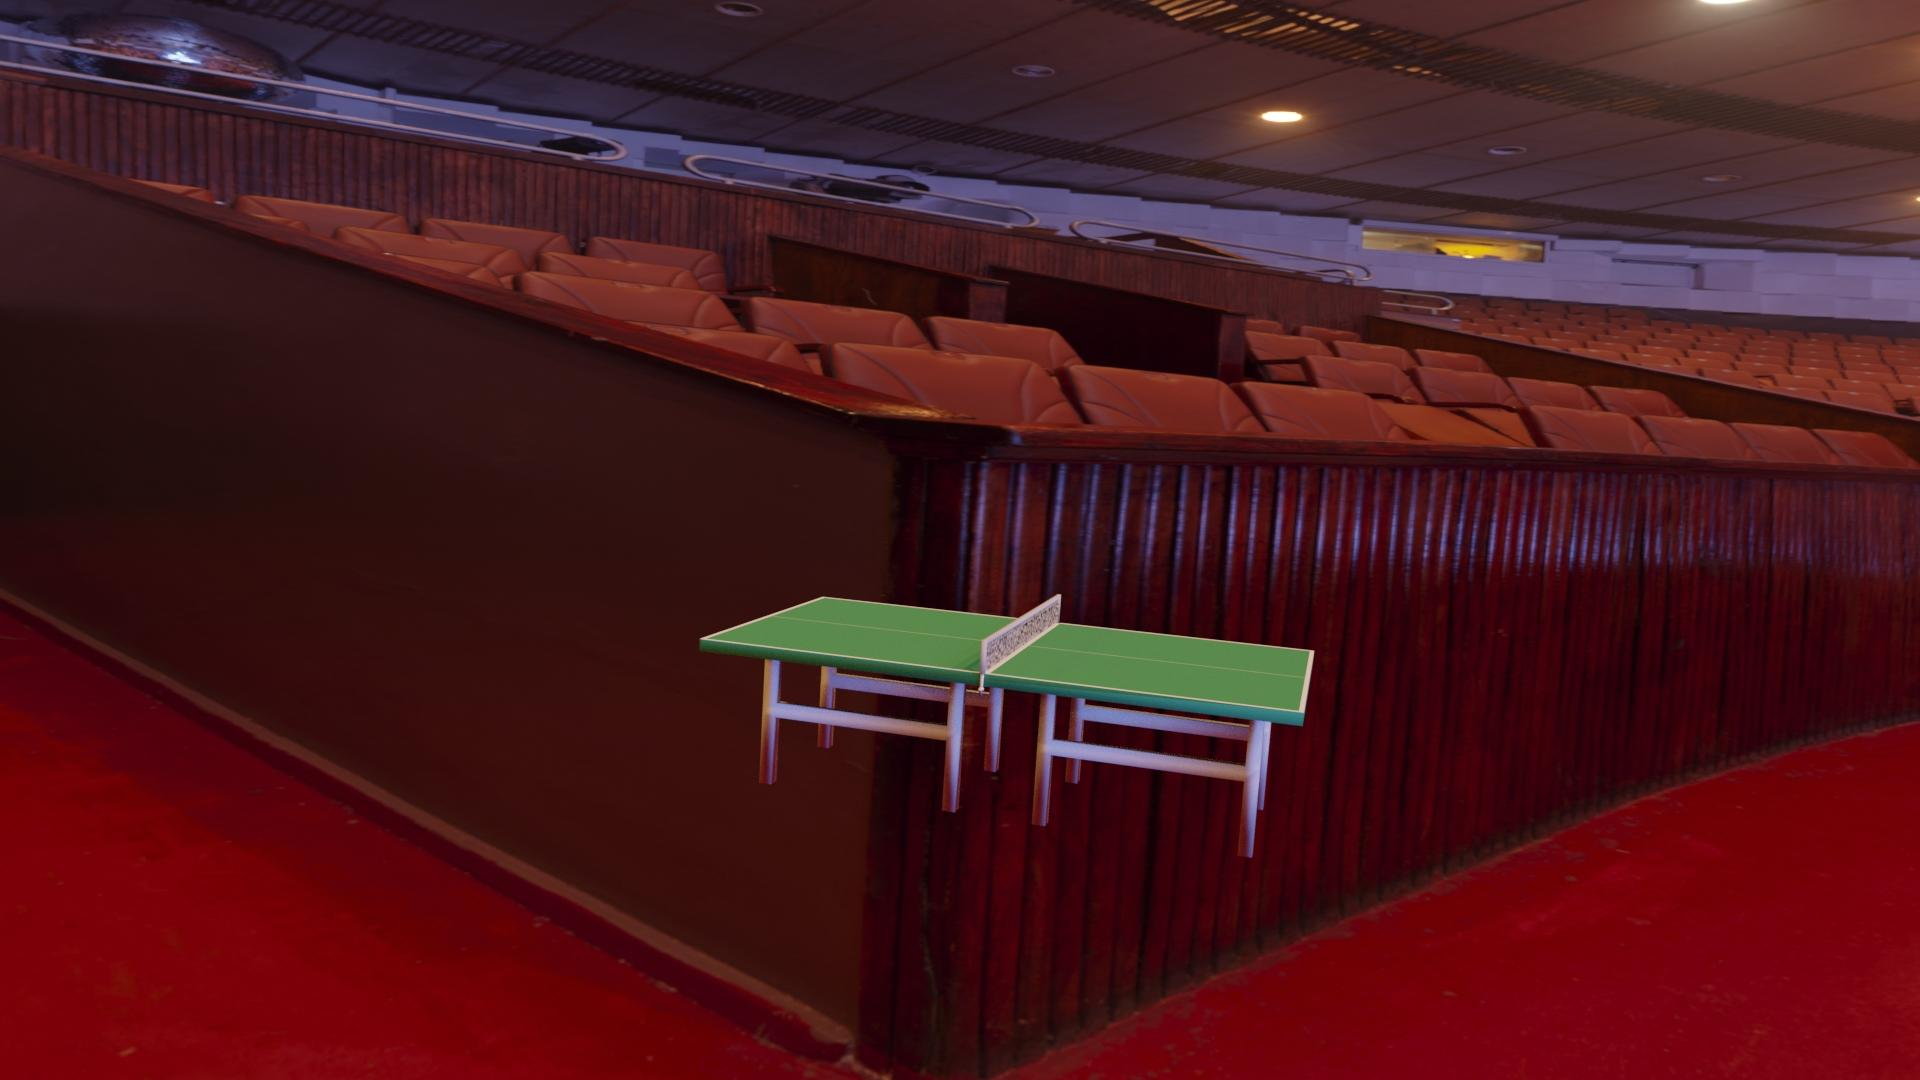table: (705, 597, 1309, 711)
